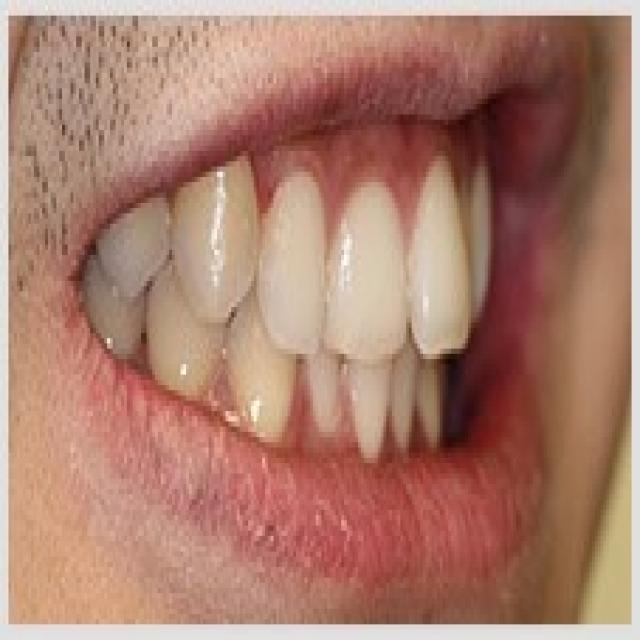tooth: (307, 177, 406, 359), (161, 166, 268, 328), (395, 146, 471, 348), (268, 151, 330, 354), (138, 302, 220, 390), (237, 338, 293, 437), (352, 349, 398, 463), (394, 354, 442, 453), (310, 369, 344, 426)
